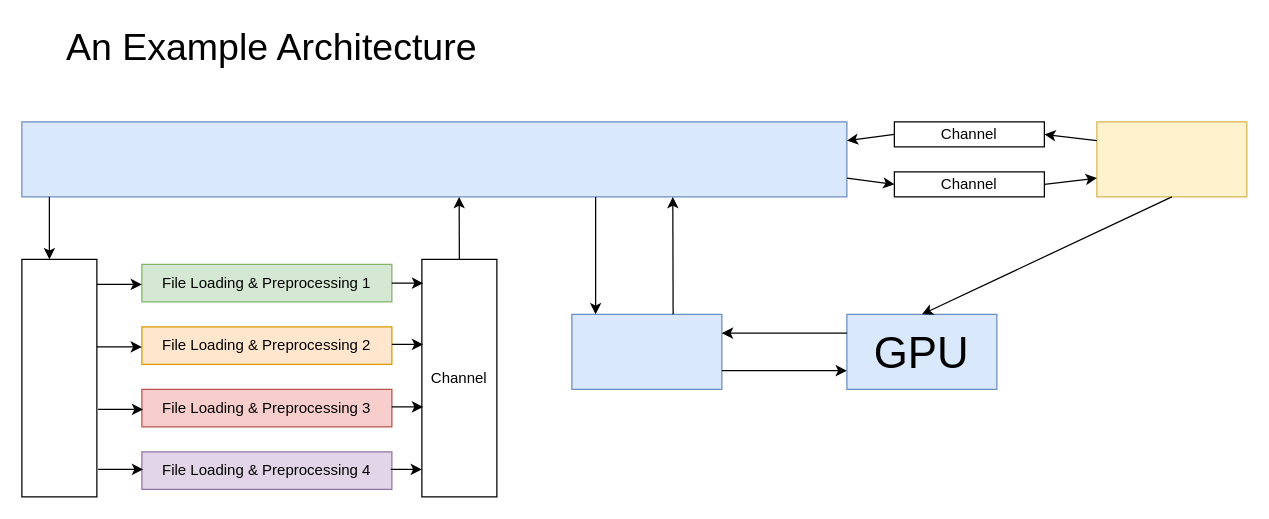
Image size: 1269x519. Some labels were removed from this diagram. The shapes that lost their labels are listed below. From the top down, each one's centre as x and y in pixels, then its label:
At (434,159): "Main Thread & Event Loop".
At (1171,159): "UI".
At (646,351): "ML Lib".
At (59,377): "Thread-Safe Queue".
